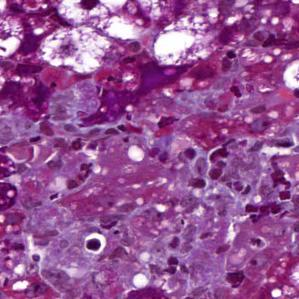ballooning: (36, 23, 114, 78), (153, 14, 220, 68)
